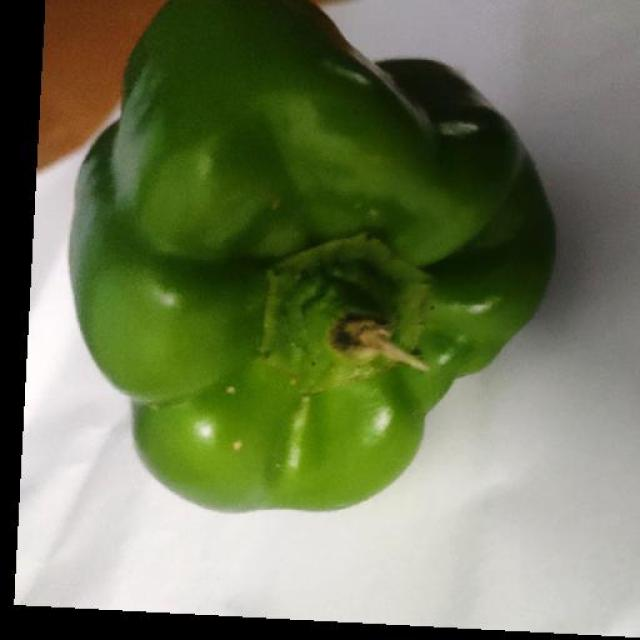Fresh_Capsicum: (104, 10, 532, 515)
